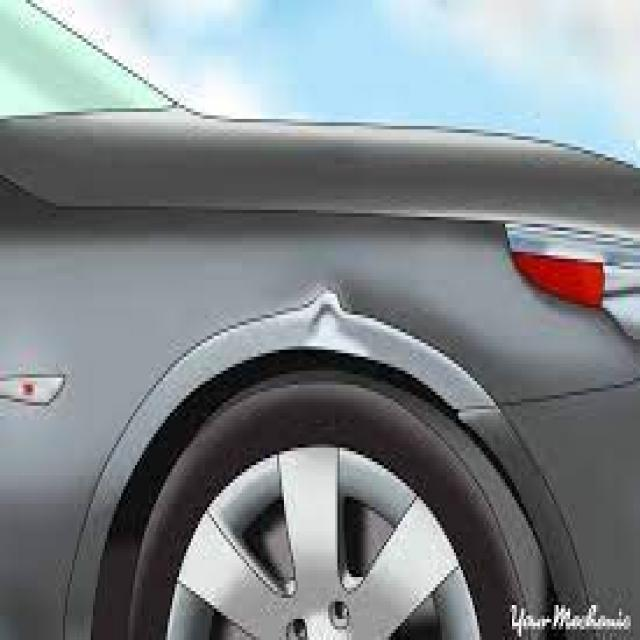minor: (246, 221, 424, 381)
